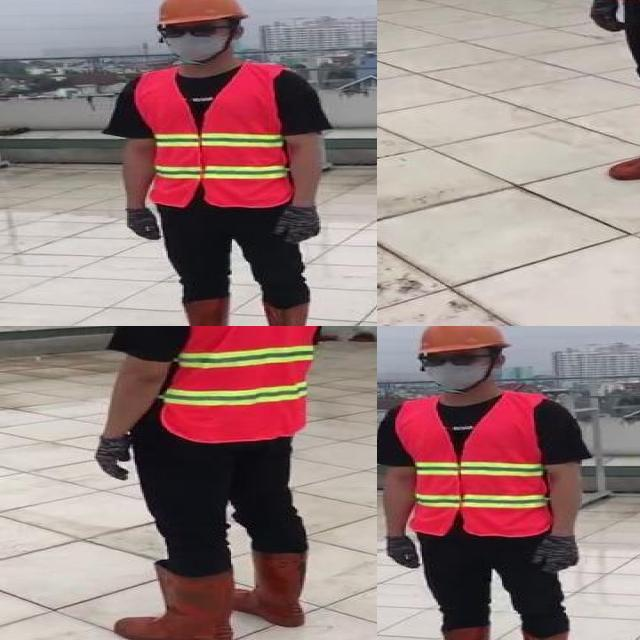boots: (117, 560, 238, 640), (232, 550, 314, 629), (609, 101, 640, 182), (166, 296, 230, 326), (256, 300, 315, 326)
face_mask: (158, 20, 230, 60), (418, 350, 488, 390)
glasses: (156, 22, 224, 42), (414, 351, 485, 369)
hand_glove: (529, 534, 582, 575), (93, 436, 134, 482), (271, 208, 323, 244), (584, 0, 630, 33), (121, 206, 162, 241), (385, 536, 420, 571)
head_helmet: (411, 326, 512, 352), (149, 0, 245, 25)
person: (93, 326, 338, 640), (110, 0, 337, 326), (377, 326, 596, 640)
vest: (392, 391, 559, 538), (133, 326, 334, 441), (136, 63, 296, 206)
